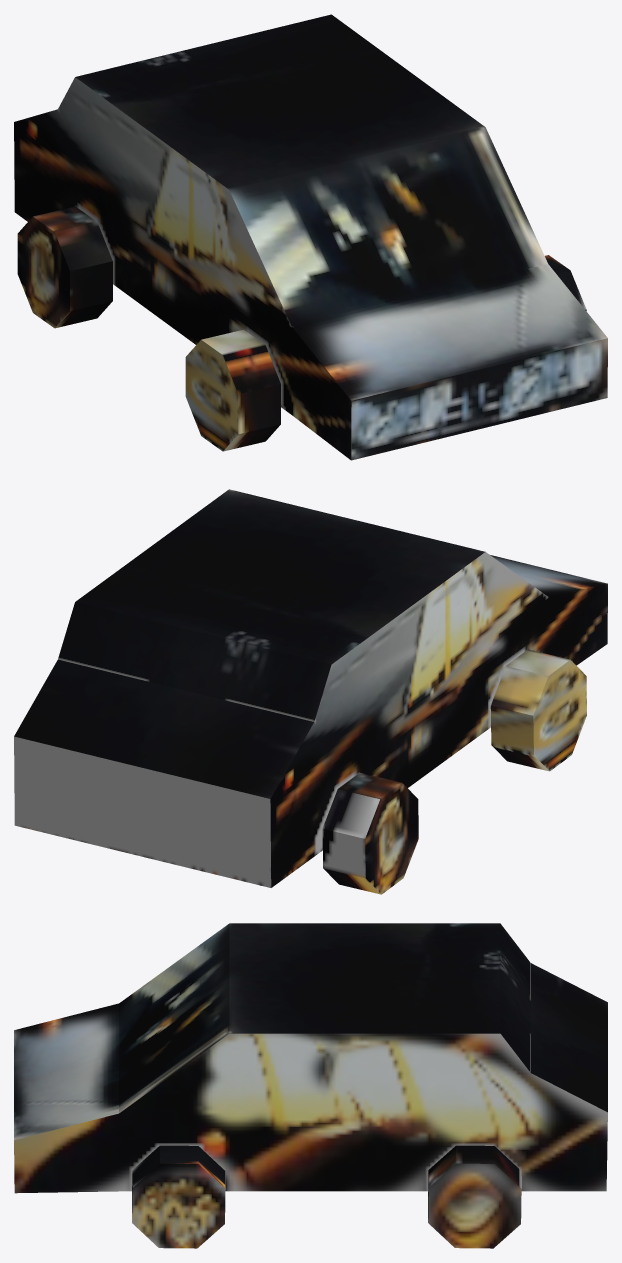
Rendered from car.fbx.
The picture shows the model from 3 angles, top to bottom: view 1: azimuth 30°, elevation 25°; view 2: azimuth 150°, elevation 25°; view 3: azimuth 270°, elevation 25°; orthographic projection. The views are drawn at different scales.
Parts seen in each view (by area): view 1: Cube; view 2: Cube; view 3: Cube.
Part boxes in pixels (bbox=[...]): Cube: bbox=[14, 14, 607, 460]; Cube: bbox=[14, 489, 607, 894]; Cube: bbox=[14, 923, 607, 1248].
Bounding box in the file's own units: 2259 × 1373 × 3784.
1 material, 1 textured.
